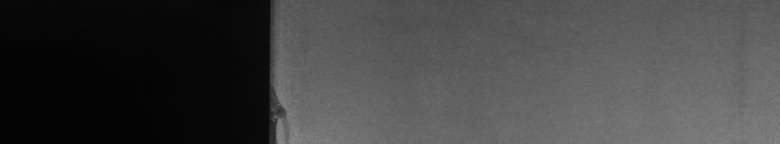hb: (280, 97, 294, 136)
